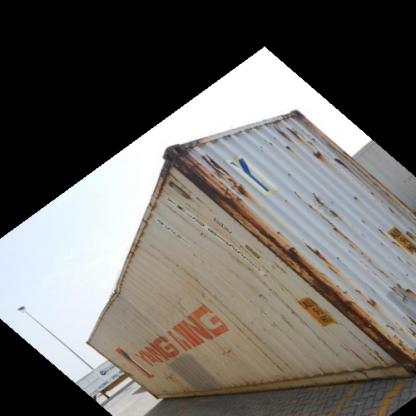Damage: (277, 242, 396, 322), (173, 153, 262, 222), (269, 119, 333, 163), (299, 184, 345, 223), (208, 341, 254, 368), (102, 285, 132, 307)
